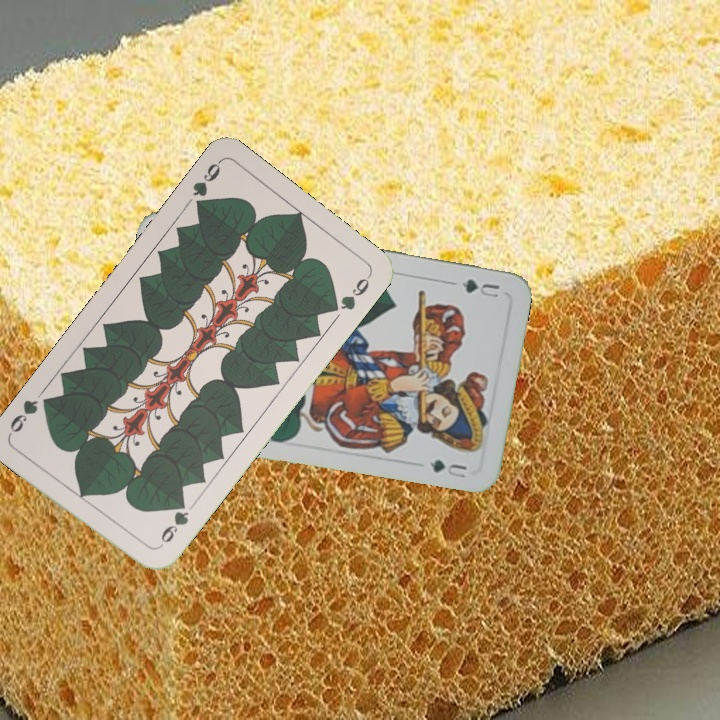G9: (153, 496, 192, 551), (188, 157, 224, 214)
GU: (456, 275, 502, 301)
